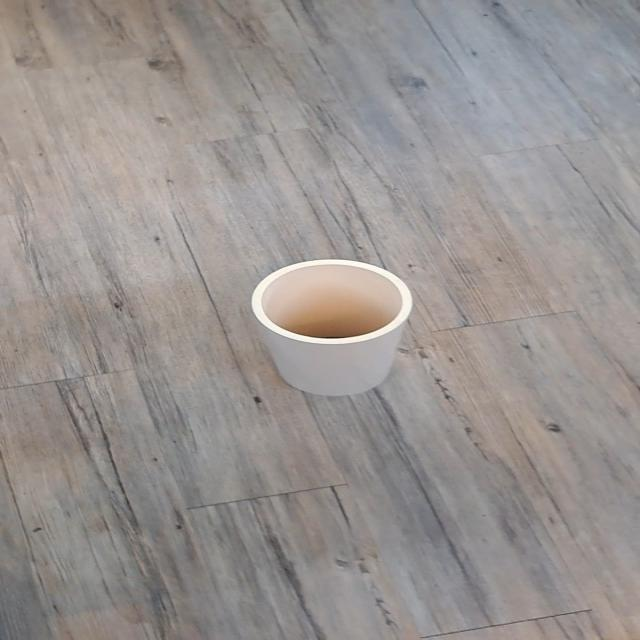CORAL: (208, 226, 454, 418)
